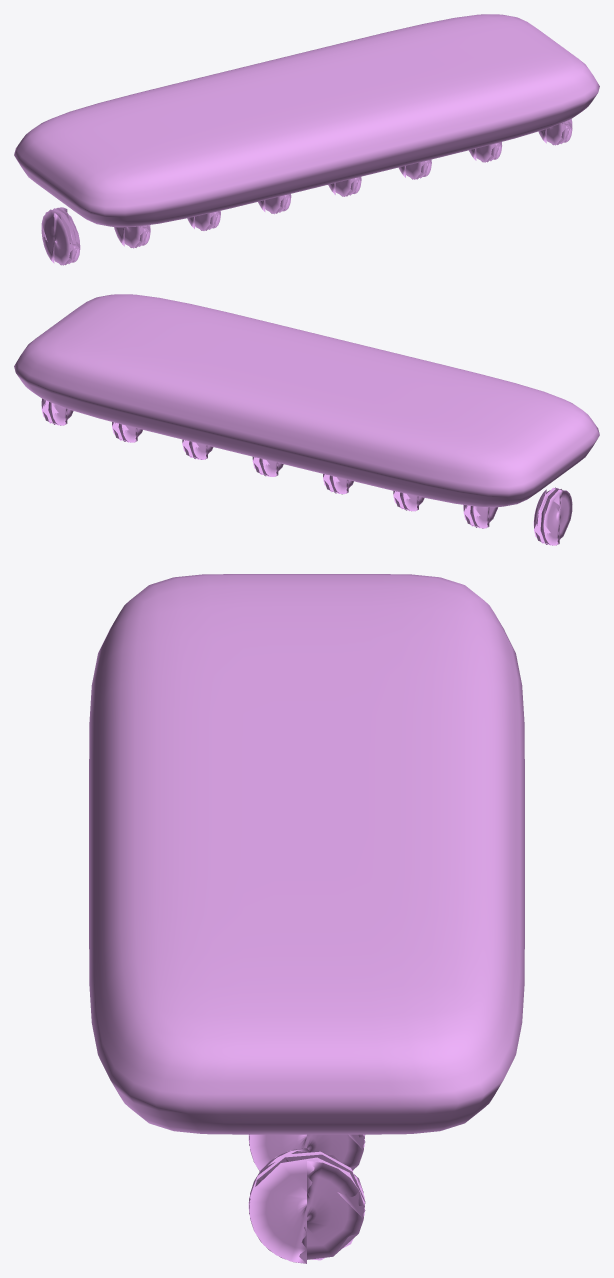
The model's file is SpringPlatform.fbx.
The picture shows the model from 3 angles, top to bottom: view 1: azimuth 30°, elevation 25°; view 2: azimuth 150°, elevation 25°; view 3: azimuth 270°, elevation 25°; orthographic projection. The views are drawn at different scales.
Visible parts, largest first — view 1: TrampolinePlatform; view 2: TrampolinePlatform; view 3: TrampolinePlatform.
Boxes of the visible parts, x1=… form: TrampolinePlatform: x1=14, y1=14, x2=599, y2=265; TrampolinePlatform: x1=14, y1=294, x2=599, y2=545; TrampolinePlatform: x1=89, y1=574, x2=524, y2=1263.
Size of the model in its own units: 630 by 130 by 230.
